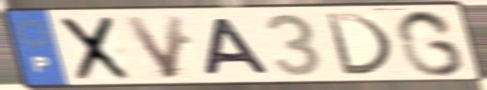3: (263, 12, 329, 79)
A: (202, 17, 274, 77)
D: (322, 11, 397, 77)
G: (392, 8, 469, 79)
V: (119, 13, 187, 81)
X: (58, 14, 134, 83)
